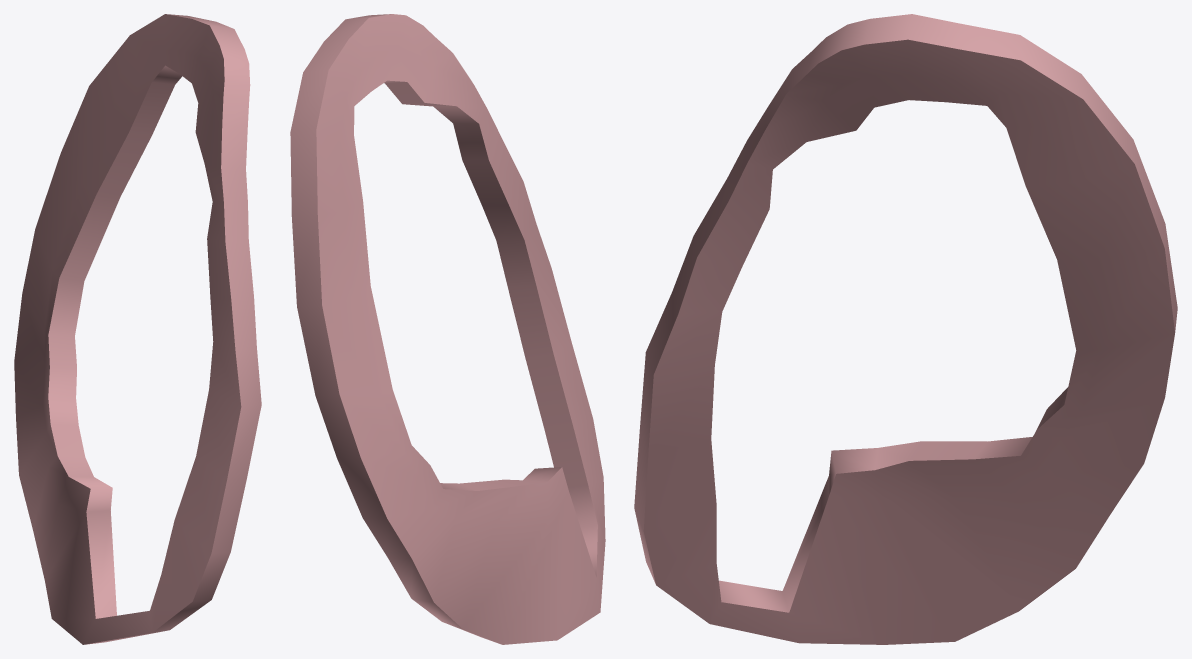
3 views of the same model, side by side, from view 1: azimuth 30°, elevation 25°; view 2: azimuth 150°, elevation 25°; view 3: azimuth 270°, elevation 25° (orthographic). The views are drawn at different scales.
Parts seen in each view (by area): view 1: ZA_ec7b1f2c5c77015f; view 2: ZA_ec7b1f2c5c77015f; view 3: ZA_ec7b1f2c5c77015f.
Part boxes in pixels (x1,y1,x2,y2): ZA_ec7b1f2c5c77015f: (14,14,261,644); ZA_ec7b1f2c5c77015f: (290,14,605,644); ZA_ec7b1f2c5c77015f: (634,14,1177,644).
Size of the model in its own units: 0.0238 by 0.0638 by 0.0434.
